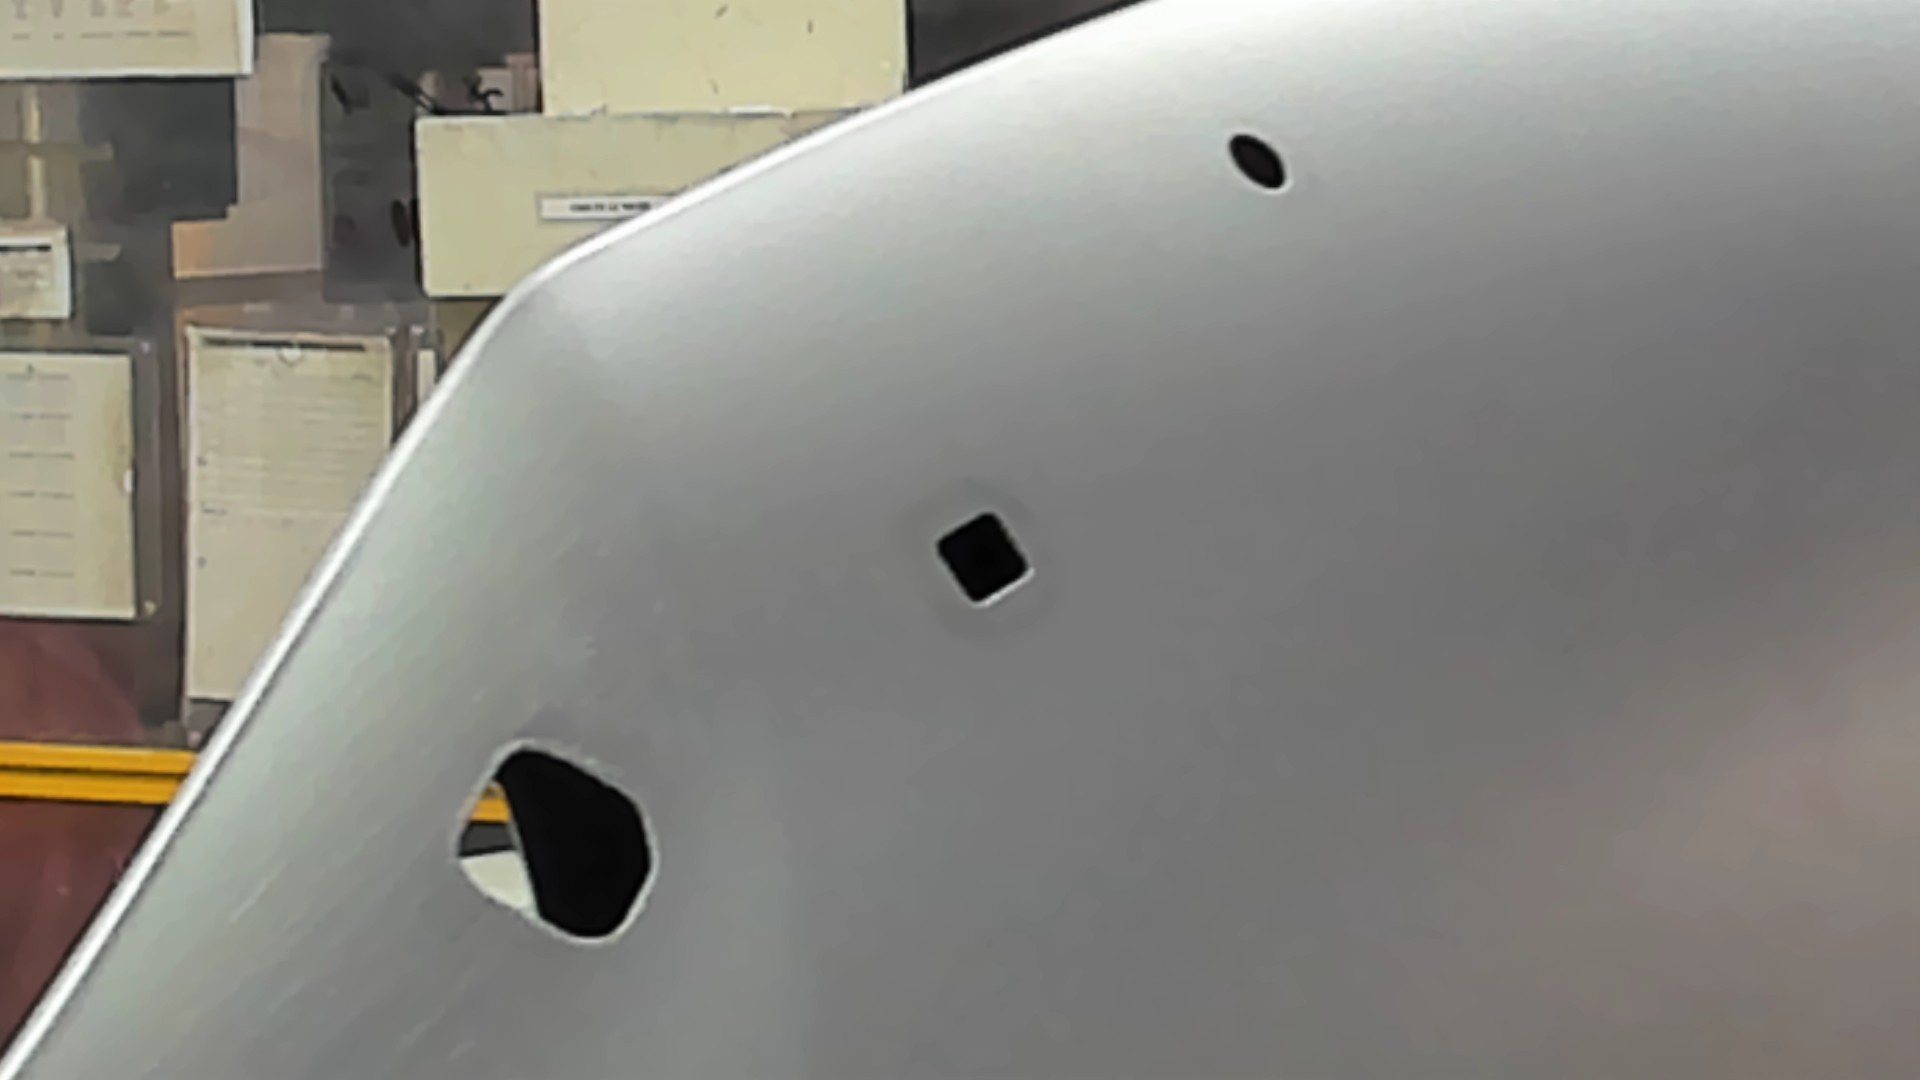chico: (1226, 129, 1294, 193)
grande: (454, 737, 665, 947)
mediano: (932, 509, 1035, 607)
